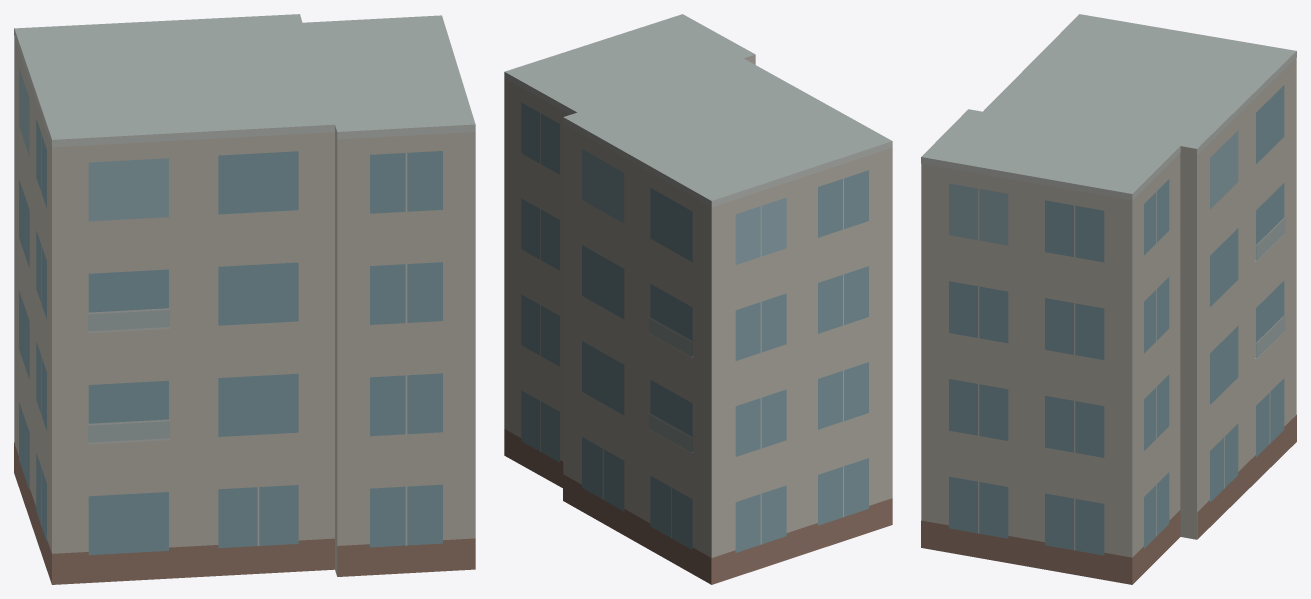
Rendered from survey-upis-32820990.glb.
3 renders of one model, left to right at view 1: azimuth 30°, elevation 25°; view 2: azimuth 150°, elevation 25°; view 3: azimuth 270°, elevation 25°, orthographic. The views are drawn at different scales.
Visible parts, largest first — view 1: survey-upis-32820990.tmp; view 2: survey-upis-32820990.tmp; view 3: survey-upis-32820990.tmp.
Boxes of the visible parts, x1=… form: survey-upis-32820990.tmp: x1=14, y1=14, x2=475, y2=584; survey-upis-32820990.tmp: x1=504, y1=14, x2=892, y2=584; survey-upis-32820990.tmp: x1=921, y1=14, x2=1296, y2=584.
Size of the model in its own units: 14.38 by 14.55 by 12.68.
